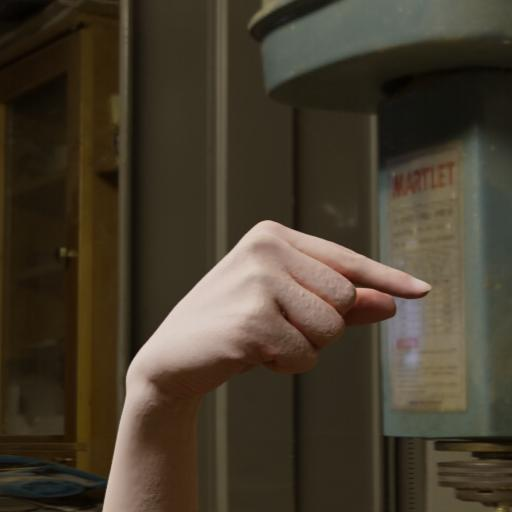G: (92, 192, 470, 500)
